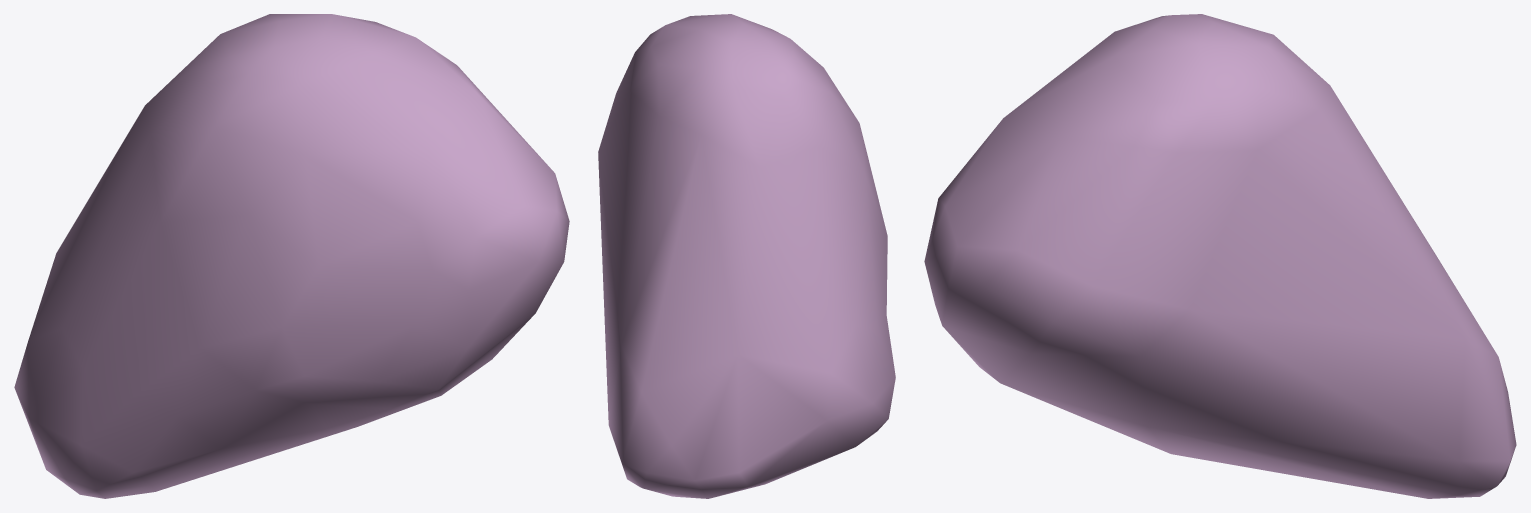
3 views of the same model, side by side, from view 1: azimuth 30°, elevation 25°; view 2: azimuth 150°, elevation 25°; view 3: azimuth 270°, elevation 25° (orthographic). The views are drawn at different scales.
Visible parts, largest first — view 1: 右侧内侧膝状体; view 2: 右侧内侧膝状体; view 3: 右侧内侧膝状体.
Part boxes in pixels (x1,y1,x2,y2): 右侧内侧膝状体: (14, 14, 569, 498); 右侧内侧膝状体: (598, 14, 895, 498); 右侧内侧膝状体: (924, 14, 1516, 498).
Size of the model in its own units: 0.00932 by 0.0101 by 0.011.
